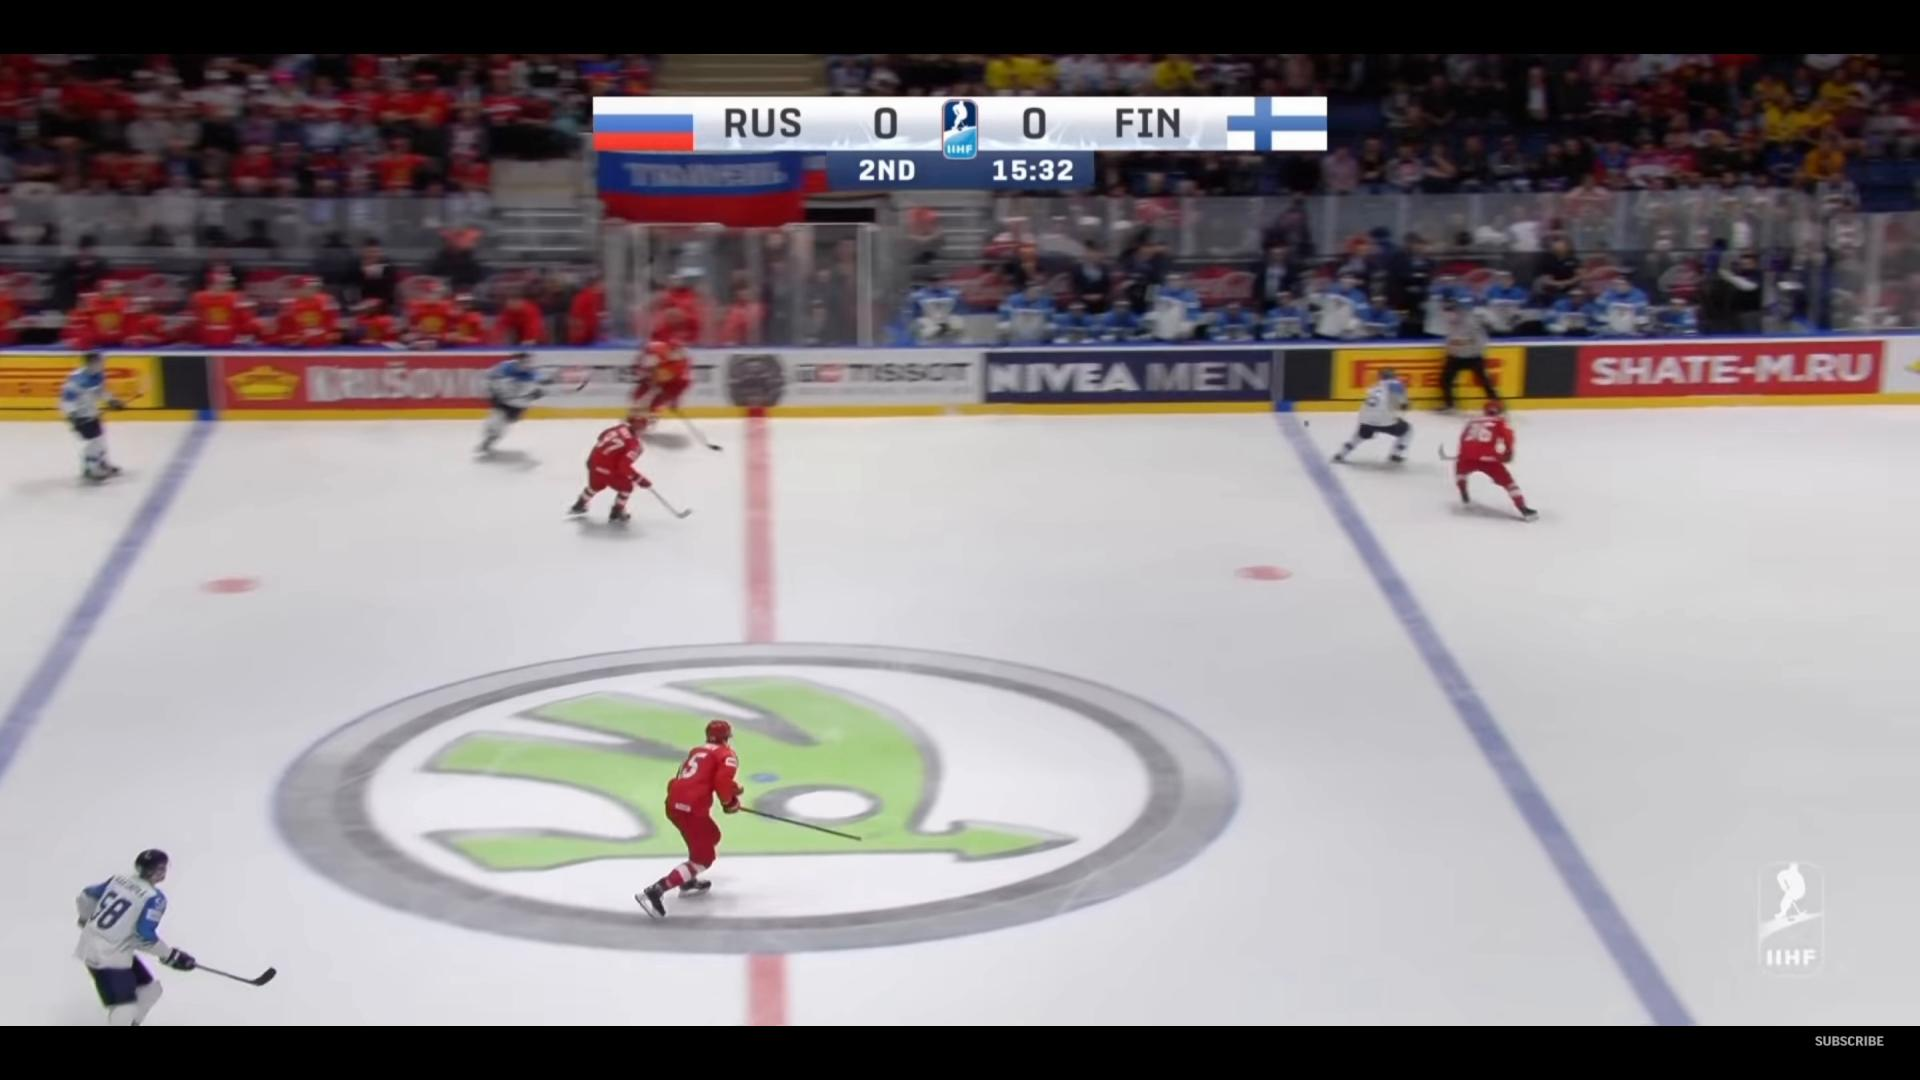puck: (1303, 419, 1308, 426)
